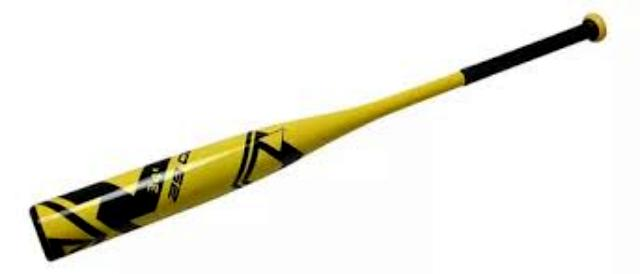baseball bat: (31, 13, 606, 264)
